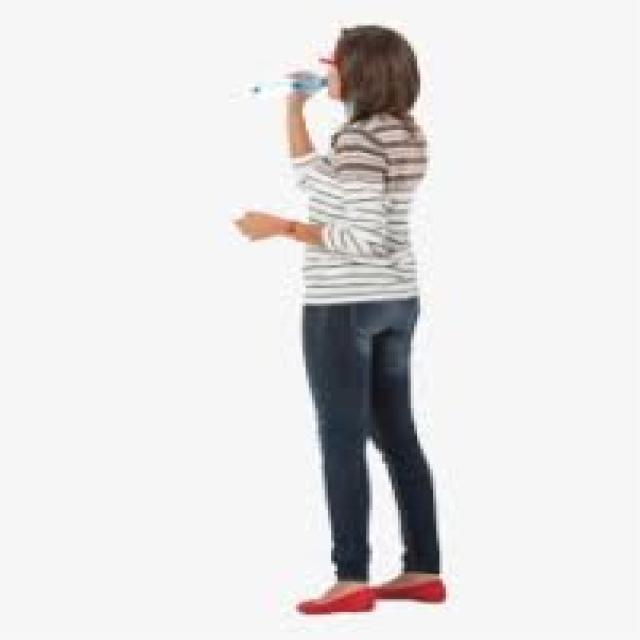standing: (224, 20, 459, 616)
